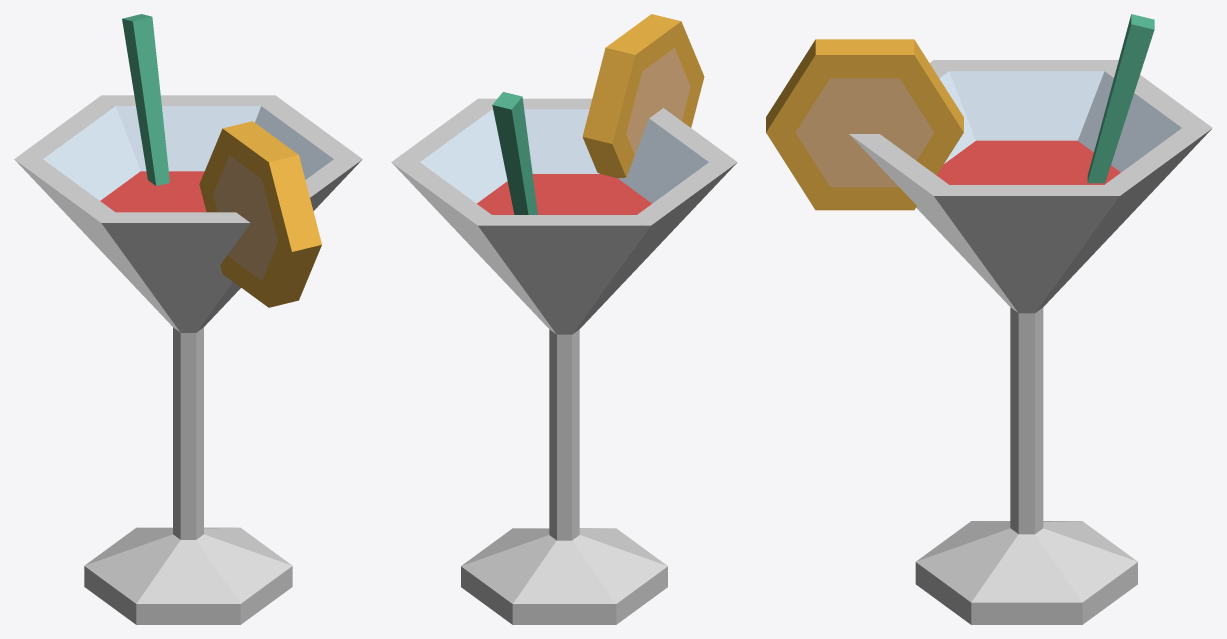
The model's file is cocktail.dae.
The picture shows the model from 3 angles, left to right: view 1: azimuth 30°, elevation 25°; view 2: azimuth 150°, elevation 25°; view 3: azimuth 270°, elevation 25°; orthographic projection. The views are drawn at different scales.
Parts seen in each view (by area): view 1: cocktail, lemon, straw; view 2: cocktail, lemon, straw; view 3: cocktail, lemon, straw.
Part boxes in pixels (left/top/right/bottom): cocktail: left=14, top=95, right=362, bottom=624; lemon: left=199, top=121, right=321, bottom=307; straw: left=122, top=14, right=169, bottom=185; cocktail: left=391, top=98, right=737, bottom=624; lemon: left=582, top=14, right=704, bottom=178; straw: left=492, top=92, right=537, bottom=214; cocktail: left=849, top=60, right=1212, bottom=624; lemon: left=766, top=39, right=963, bottom=210; straw: left=1087, top=14, right=1154, bottom=183.
Size of the model in its own units: 0.2607 by 0.5059 by 0.3615.
